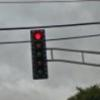traffic lights: (30, 28, 49, 81)
